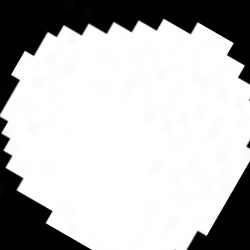spot: (2, 19, 248, 246)
